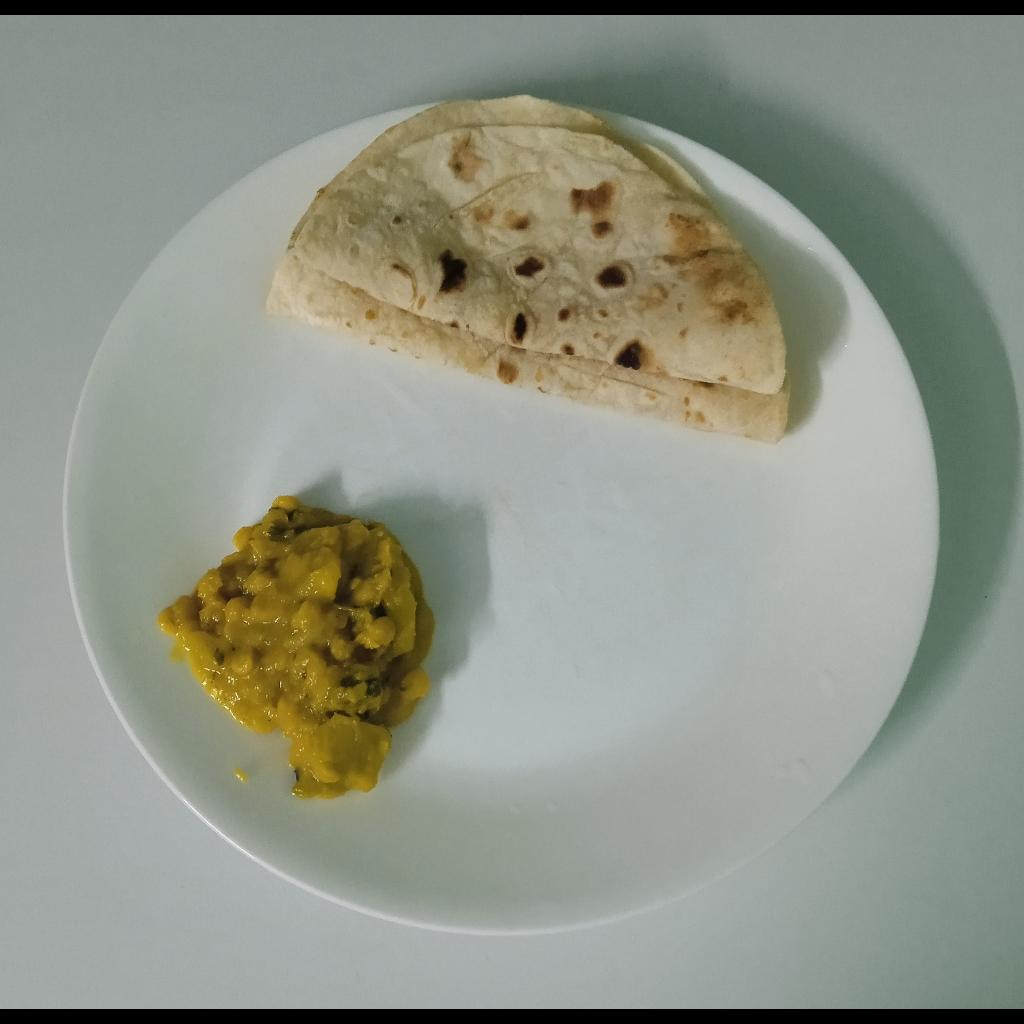daal: (159, 494, 433, 795)
ruti: (256, 92, 793, 435)
